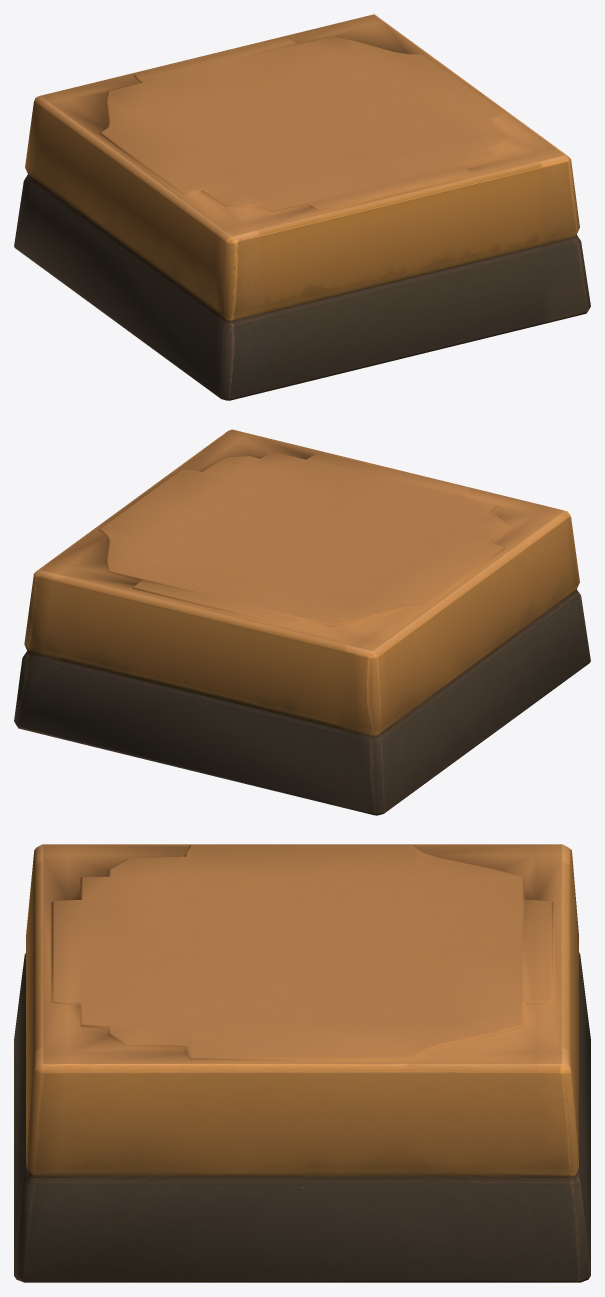
The model's file is Meshy_AI_Two_Tone_Stackable_Bo_0519124154_texture.fbx.
3 renders of one model, top to bottom at view 1: azimuth 30°, elevation 25°; view 2: azimuth 150°, elevation 25°; view 3: azimuth 270°, elevation 25°, orthographic. The views are drawn at different scales.
Parts seen in each view (by area): view 1: Mesh_0; view 2: Mesh_0; view 3: Mesh_0.
Part boxes in pixels (x1=…): Mesh_0: x1=14, y1=14, x2=590, y2=400; Mesh_0: x1=14, y1=429, x2=590, y2=815; Mesh_0: x1=14, y1=844, x2=590, y2=1282.
Size of the model in its own units: 245 by 100 by 244.
1 material, 1 textured.
